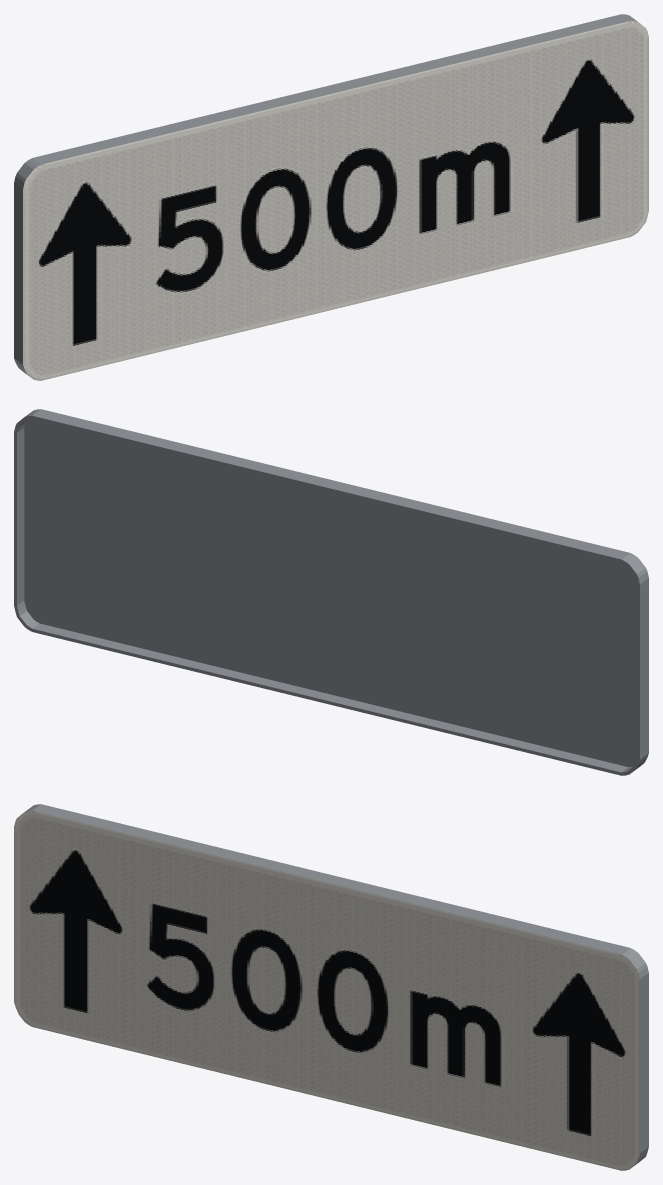
The picture shows the model from 3 angles, top to bottom: view 1: azimuth 30°, elevation 25°; view 2: azimuth 150°, elevation 25°; view 3: azimuth 330°, elevation 25°; orthographic projection.
Parts seen in each view (by area): view 1: cat_d313120eeee5d9e3; view 2: cat_d313120eeee5d9e3; view 3: cat_d313120eeee5d9e3.
Part boxes in pixels (x1=…): cat_d313120eeee5d9e3: x1=14, y1=14, x2=648, y2=380; cat_d313120eeee5d9e3: x1=14, y1=409, x2=648, y2=775; cat_d313120eeee5d9e3: x1=14, y1=804, x2=648, y2=1170.
Size of the model in its own units: 0.6 by 0.015 by 0.1981.
2 materials, 1 textured.
